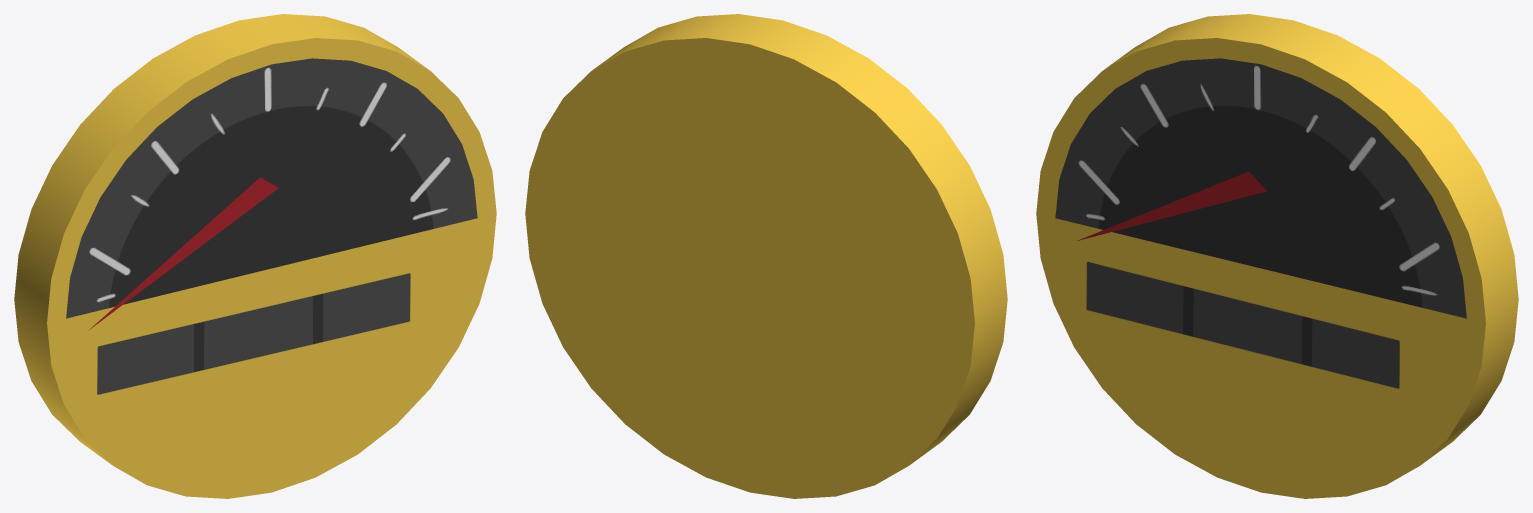
File: speedometer_trinket_-_dandys_world.glb
3 views of the same model, side by side, from view 1: azimuth 30°, elevation 25°; view 2: azimuth 150°, elevation 25°; view 3: azimuth 330°, elevation 25° (orthographic).
Visible parts, largest first — view 1: Object_2; view 2: Object_2; view 3: Object_2.
Part boxes in pixels (bbox=[...]): Object_2: bbox=[14, 14, 496, 498]; Object_2: bbox=[525, 14, 1007, 498]; Object_2: bbox=[1036, 14, 1518, 498].
Bounding box in the file's own units: 2.1 × 2 × 0.2675.
Materials: 1 (1 with a texture image).
